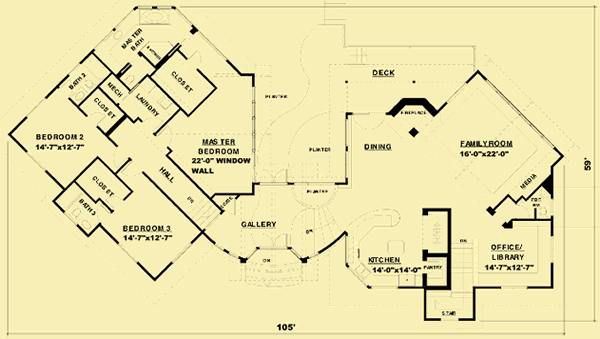door: (258, 231, 289, 252), (118, 159, 143, 177), (145, 114, 164, 135), (84, 108, 106, 126), (188, 46, 204, 69), (159, 126, 173, 149)
large sink: (68, 206, 83, 222), (122, 72, 137, 87)
small sink: (68, 87, 89, 104), (106, 27, 126, 39), (78, 219, 93, 233)
stairs: (426, 236, 477, 320), (189, 193, 222, 229)
tub: (138, 8, 169, 26)
windows: (342, 115, 354, 180), (113, 239, 140, 266), (168, 241, 197, 262), (446, 80, 469, 105), (290, 179, 336, 190), (368, 282, 403, 293), (496, 282, 528, 293), (547, 230, 557, 264), (255, 178, 288, 188)
